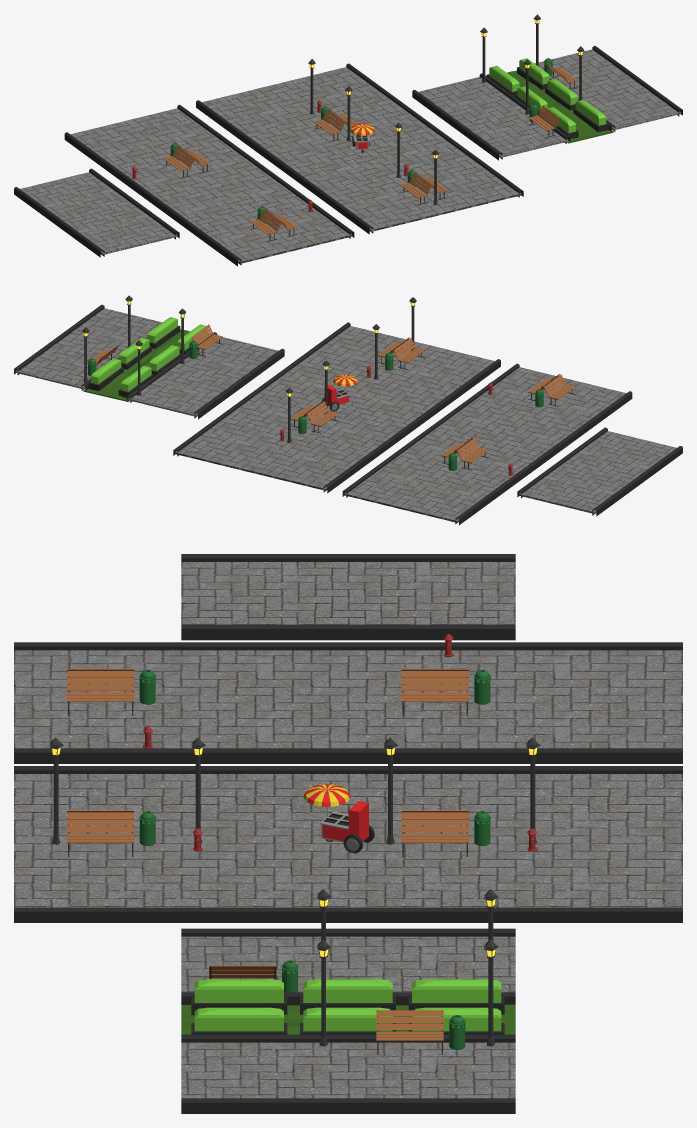
Rendered from street.fbx.
3 renders of one model, top to bottom at view 1: azimuth 30°, elevation 25°; view 2: azimuth 150°, elevation 25°; view 3: azimuth 270°, elevation 25°, orthographic. The views are drawn at different scales.
Visible parts, largest first — view 1: ROAD3, ROAD2, ROAD4, ROAD1, GRASS, FOLIAGE3, FOLIAGE4, FOLIAGE2; view 2: ROAD3, ROAD2, ROAD4, ROAD1, GRASS, FOLIAGE3, FOLIAGE4, FOLIAGE2; view 3: ROAD3, ROAD2, ROAD4, ROAD1, GRASS, FOLIAGE3, FOLIAGE4, FOLIAGE2.
Part boxes in pixels (x1,y1,x2,y2): ROAD3: (196, 63, 523, 234); ROAD2: (64, 104, 354, 266); ROAD4: (412, 46, 682, 160); ROAD1: (14, 168, 179, 257); GRASS: (487, 58, 613, 143); FOLIAGE3: (308, 59, 447, 205); FOLIAGE4: (480, 14, 584, 137); FOLIAGE2: (132, 143, 312, 241); ROAD3: (173, 322, 500, 493); ROAD2: (342, 363, 632, 525); ROAD4: (14, 304, 284, 419); ROAD1: (517, 427, 682, 516); GRASS: (83, 317, 208, 401); FOLIAGE3: (279, 297, 424, 442); FOLIAGE4: (82, 295, 222, 395); FOLIAGE2: (441, 374, 575, 475); ROAD3: (14, 766, 682, 922); ROAD2: (14, 642, 682, 763); ROAD4: (181, 928, 515, 1113); ROAD1: (181, 554, 515, 640); GRASS: (181, 979, 515, 1034); FOLIAGE3: (49, 737, 540, 856); FOLIAGE4: (209, 889, 498, 1054); FOLIAGE2: (67, 633, 490, 748).
Bounding box in the file's own units: 1550 × 150 × 800.
